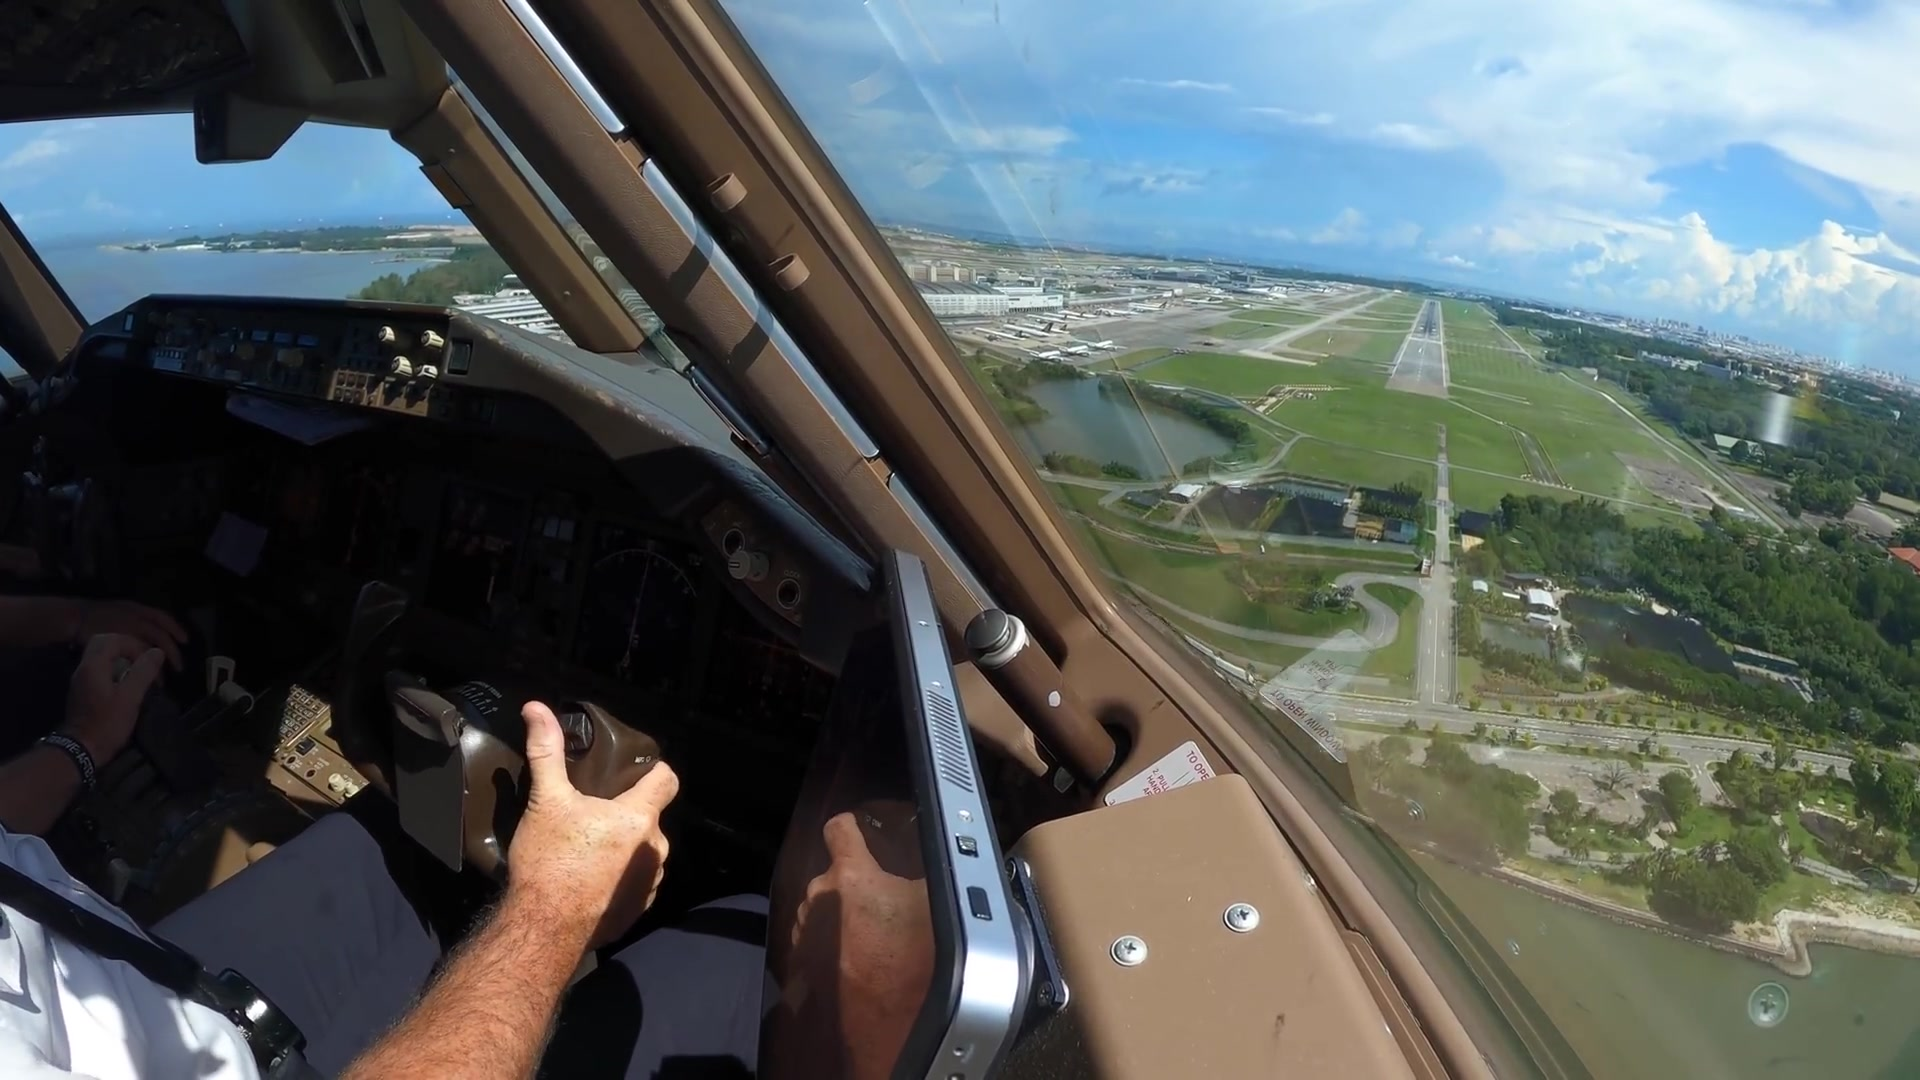runway: (1389, 298, 1447, 400)
